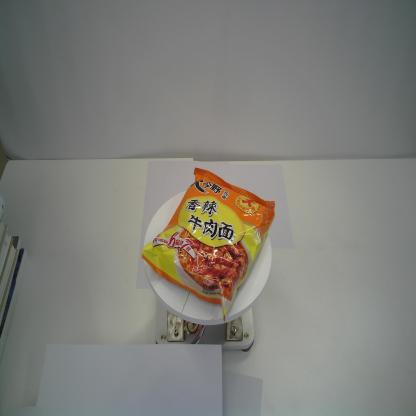Instant Noodles: (141, 166, 275, 322)
